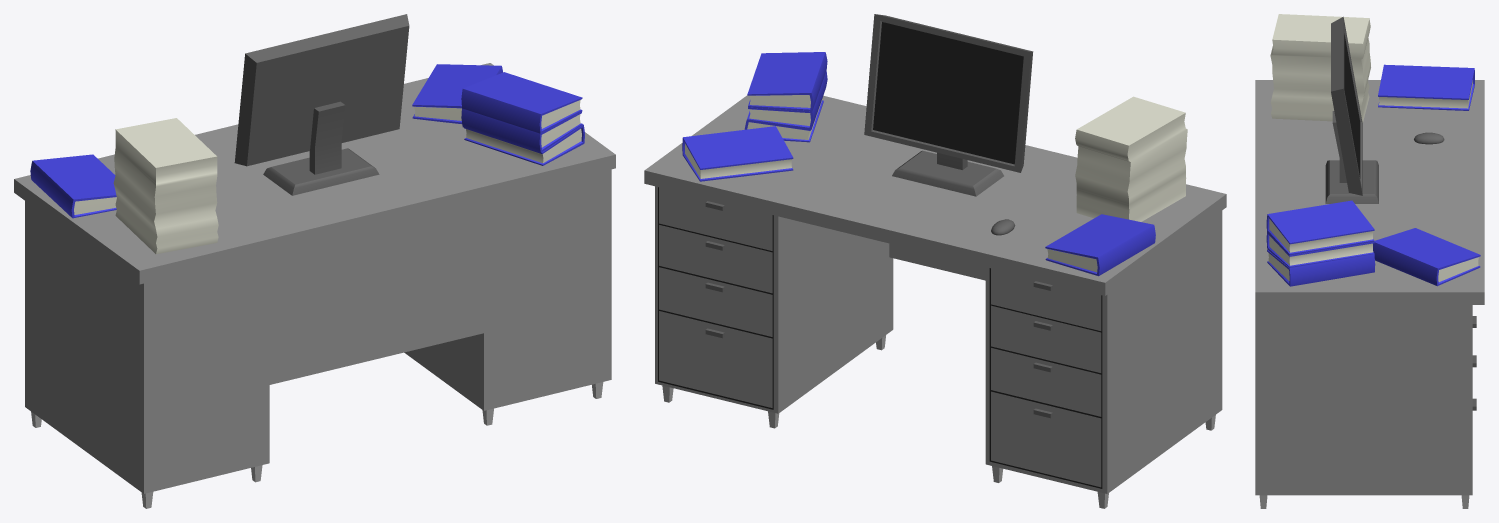
Rendered from desk.fbx.
The picture shows the model from 3 angles, left to right: view 1: azimuth 30°, elevation 25°; view 2: azimuth 150°, elevation 25°; view 3: azimuth 270°, elevation 25°; orthographic projection. The views are drawn at different scales.
Visible parts, largest first — view 1: pCube41, pCube42, pCube22, pCube26, pCube28, pCube27, pCube25, pCube24; view 2: pCube41, pCube42, pCube22, pCube27, pCube28, pCube26, pCube25, pCube24; view 3: pCube41, pCube22, pCube42, pCube26, pCube28, pCube27, pCube24, pCube25, pCube29.
Part boxes in pixels (x1,y1,x2,y2): pCube41: [14, 63, 615, 508]; pCube42: [234, 14, 409, 195]; pCube22: [113, 118, 218, 254]; pCube26: [461, 72, 582, 133]; pCube28: [30, 154, 116, 218]; pCube27: [412, 64, 502, 123]; pCube25: [461, 108, 582, 152]; pCube24: [464, 124, 584, 165]; pCube41: [644, 95, 1226, 508]; pCube42: [864, 14, 1033, 196]; pCube22: [1075, 96, 1187, 221]; pCube27: [682, 126, 793, 181]; pCube28: [1045, 214, 1155, 276]; pCube26: [747, 52, 827, 111]; pCube25: [747, 71, 827, 129]; pCube24: [744, 100, 823, 142]; pCube41: [1255, 80, 1484, 508]; pCube22: [1270, 14, 1370, 122]; pCube42: [1325, 16, 1378, 203]; pCube26: [1266, 200, 1374, 255]; pCube28: [1378, 64, 1474, 110]; pCube27: [1373, 228, 1480, 286]; pCube24: [1267, 250, 1375, 286]; pCube25: [1266, 232, 1374, 267]; pCube29: [1414, 132, 1444, 144].
Bounding box in the file's own units: 4.61 × 3.58 × 2.1.
